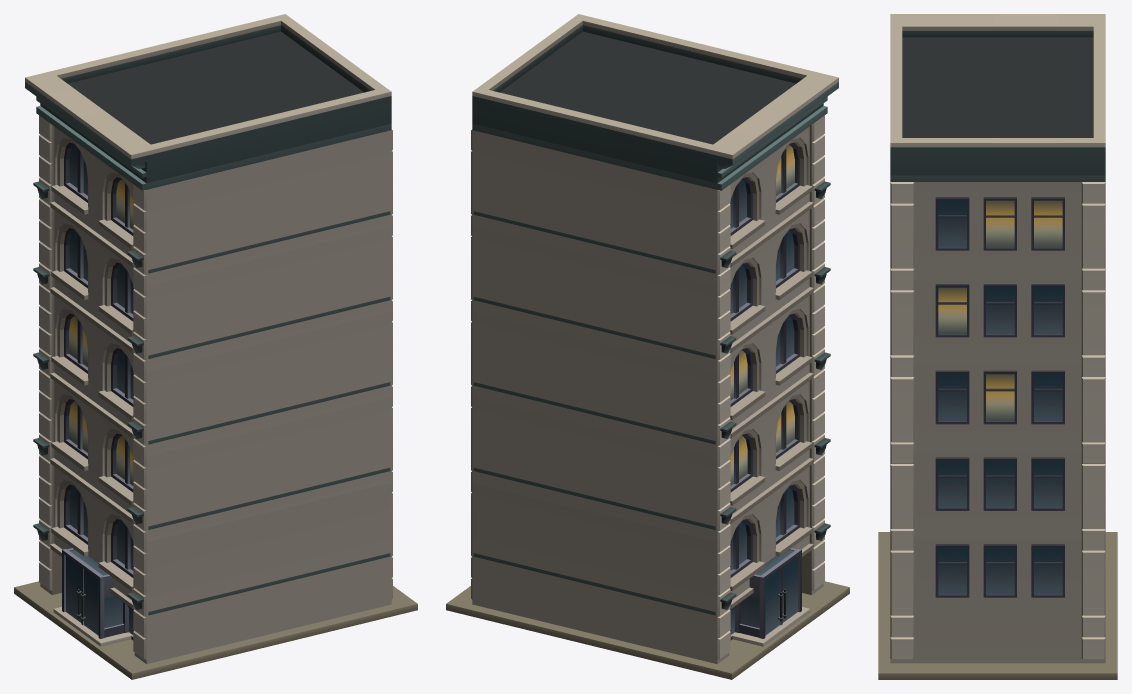
File: Building_12C.fbx
3 views of the same model, side by side, from view 1: azimuth 30°, elevation 25°; view 2: azimuth 150°, elevation 25°; view 3: azimuth 270°, elevation 25° (orthographic).
Parts seen in each view (by area): view 1: Building_12C, Window_Lights_12C; view 2: Building_12C, Window_Lights_12C; view 3: Building_12C, Window_Lights_12C.
Boxes of the visible parts, x1,y1,x2,y2 form: Building_12C: [14, 14, 417, 679]; Window_Lights_12C: [69, 179, 133, 485]; Building_12C: [446, 14, 849, 679]; Window_Lights_12C: [730, 145, 794, 485]; Building_12C: [878, 14, 1117, 679]; Window_Lights_12C: [938, 200, 1062, 420].
Bounding box in the file's own units: 1400 × 2430 × 1000.
